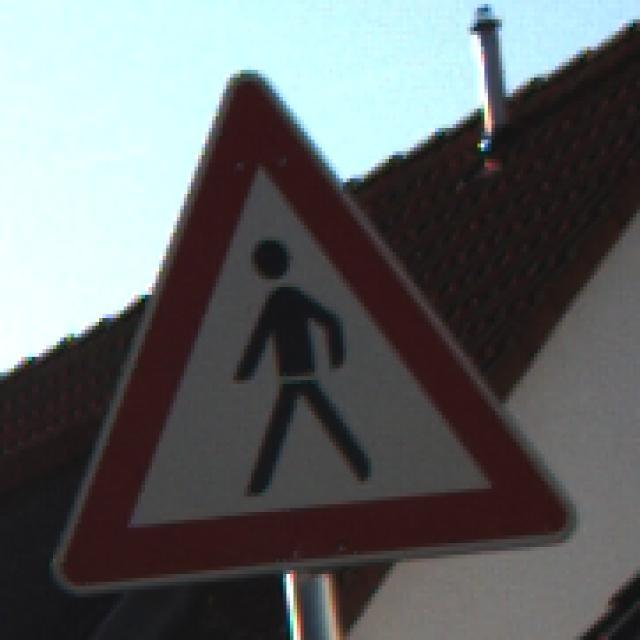pedestrian crossing: (45, 66, 582, 601)
